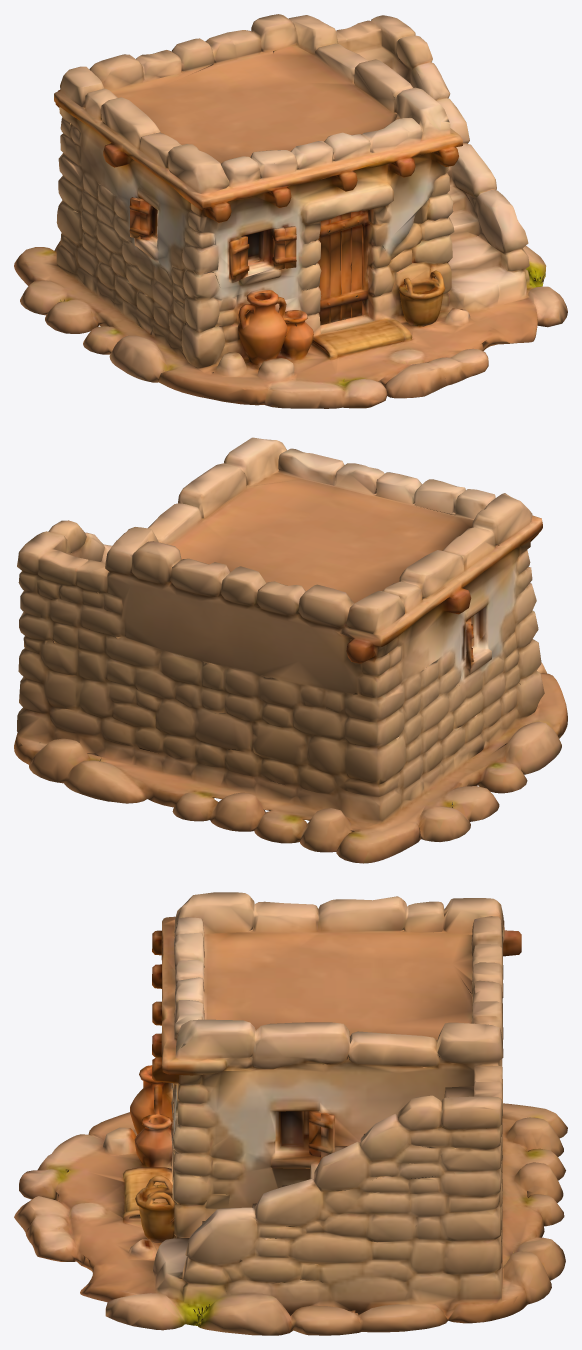
File: casa_ia_20k.glb
The picture shows the model from 3 angles, top to bottom: view 1: azimuth 30°, elevation 25°; view 2: azimuth 150°, elevation 25°; view 3: azimuth 270°, elevation 25°; orthographic projection. The views are drawn at different scales.
Parts seen in each view (by area): view 1: CasaIA_export; view 2: CasaIA_export; view 3: CasaIA_export.
Boxes of the visible parts, left/top/right/bottom form: CasaIA_export: left=14, top=14, right=567, bottom=408; CasaIA_export: left=14, top=437, right=567, bottom=863; CasaIA_export: left=14, top=892, right=567, bottom=1335.
Bounding box in the file's own units: 8.46 × 4.03 × 8.41.
1 material, 1 textured.
